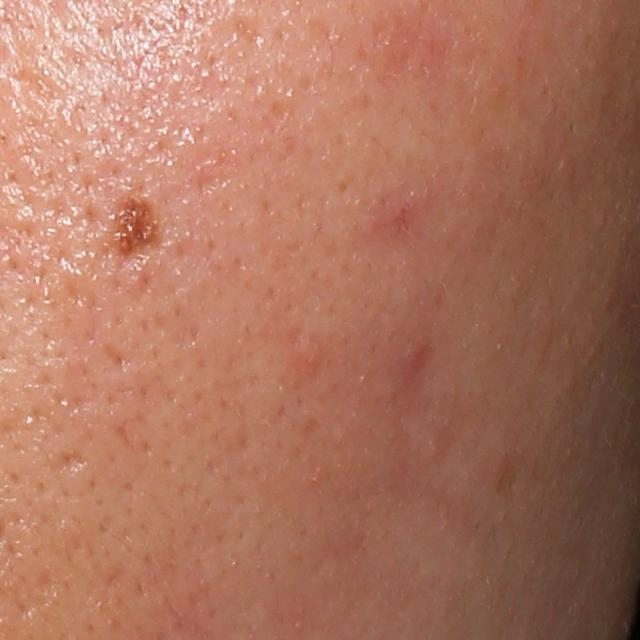atrophic_scar: (230, 18, 266, 51), (53, 449, 86, 476)
nevus: (106, 184, 165, 266)
papule: (398, 336, 432, 378)
